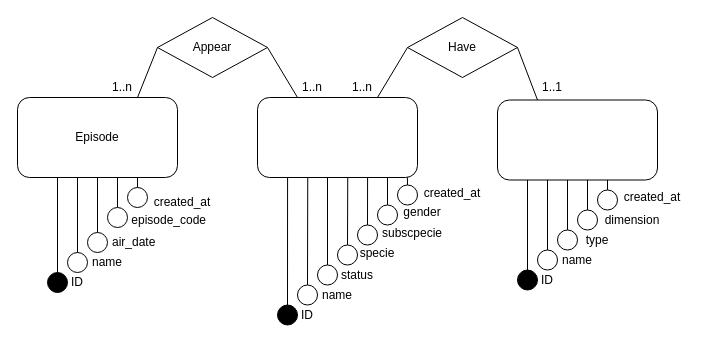
Some shapes in this 705 by 347 pixel diagram are drawn without their labels. Here are the shapes that lost their labels. From the top down, the centre of each, then its label:
the point at 337,137: Character
the point at 577,139: Location
